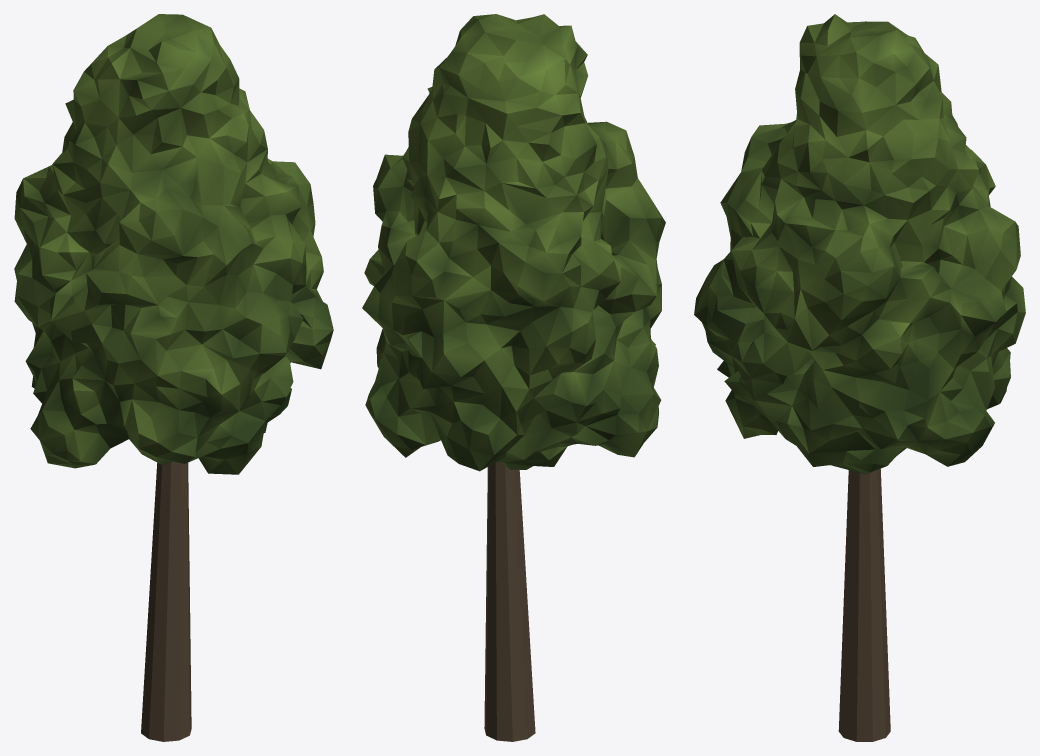
Rendered from tree_tall.glb.
The picture shows the model from 3 angles, left to right: view 1: azimuth 30°, elevation 25°; view 2: azimuth 150°, elevation 25°; view 3: azimuth 270°, elevation 25°; orthographic projection.
Parts seen in each view (by area): view 1: tree_tall; view 2: tree_tall; view 3: tree_tall.
Boxes of the visible parts, box(x1,y1,x2,y2) form: tree_tall: box(14, 14, 333, 741); tree_tall: box(362, 14, 665, 741); tree_tall: box(694, 14, 1025, 741).
Bounding box in the file's own units: 3.34 × 8.32 × 3.54.
